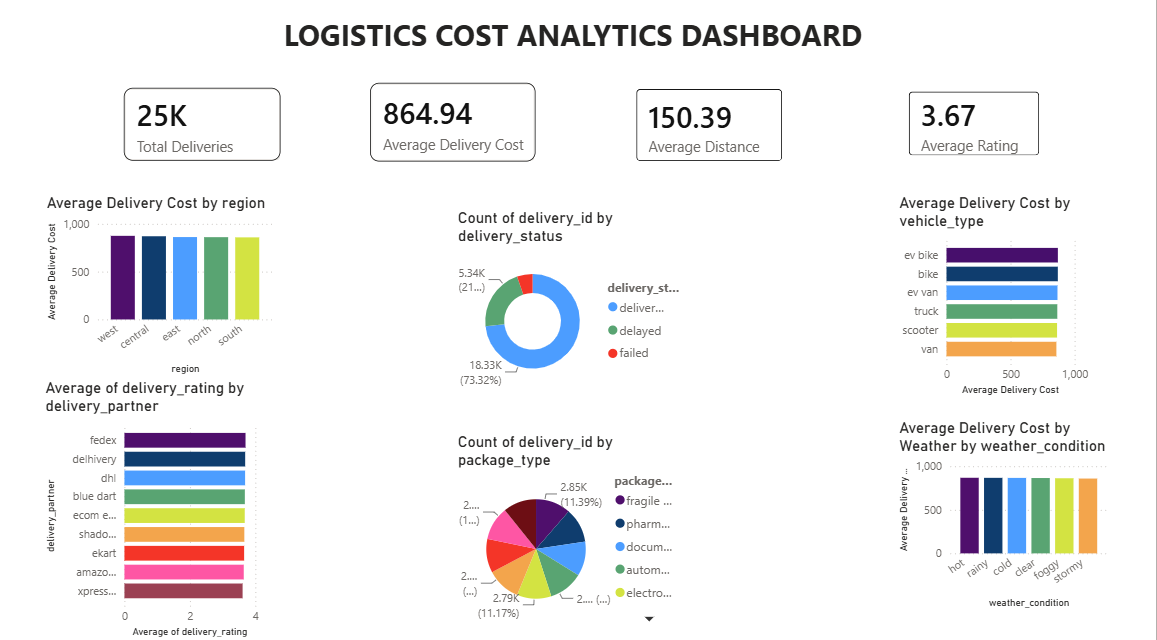

What the dashboard file says about the page in this screenshot:
{"tool":"powerbi","page":{"name":"Page 1","canvas":[1280,720],"ordinal":0},"visuals":[{"type":"cardVisual","fields":{"Data":["logistics_dataset.Total Deliveries"]},"box":[128.4,95.4,206.7,114.9],"z":0},{"type":"cardVisual","fields":{"Data":["logistics_dataset.Average Delivery Cost"]},"box":[399.3,90.6,215.4,120.8],"z":1000},{"type":"cardVisual","fields":{"Data":["logistics_dataset.Average Distance"]},"box":[691.6,97.4,194.9,113.9],"z":2000},{"type":"cardVisual","fields":{"Data":["logistics_dataset.Average Rating"]},"box":[990.7,100.2,177,104.3],"z":3000},{"type":"textbox","box":[287.4,26.9,704.4,57.5],"z":4000},{"type":"clusteredColumnChart","fields":{"Category":["logistics_dataset.region"],"Y":["logistics_dataset.Average Delivery Cost"]},"box":[56.3,228.7,258,203],"z":4001},{"type":"clusteredBarChart","fields":{"Category":["logistics_dataset.vehicle_type"],"Y":["logistics_dataset.Average Delivery Cost"]},"box":[991.7,228.7,217.7,226.2],"z":4002},{"type":"barChart","fields":{"Category":["logistics_dataset.delivery_partner"],"Y":["Avg(logistics_dataset.delivery_rating)"]},"box":[55,431.7,244.6,288.6],"z":4003},{"type":"columnChart","fields":{"Category":["logistics_dataset.weather_condition"],"Y":["logistics_dataset.Average Delivery Cost"]},"box":[991.7,475.7,238.5,212.8],"z":4004},{"type":"pieChart","fields":{"Category":["logistics_dataset.package_type"],"Y":["CountNonNull(logistics_dataset.delivery_id)"]},"box":[507.5,491.6,255.6,217.7],"z":4005},{"type":"donutChart","fields":{"Category":["logistics_dataset.delivery_status"],"Y":["CountNonNull(logistics_dataset.delivery_id)"]},"box":[507.5,245.8,258,209.1],"z":4006}]}

Visuals, with their boxes in screenshot pixels (x1, y1, x2, y2), scaled from the page's 1280x720 canvas onto the 1157x640 screenshot:
cardVisual - logistics_dataset.Total Deliveries: locate(116, 85, 303, 187)
cardVisual - logistics_dataset.Average Delivery Cost: locate(361, 81, 556, 188)
cardVisual - logistics_dataset.Average Distance: locate(625, 87, 801, 188)
cardVisual - logistics_dataset.Average Rating: locate(895, 89, 1055, 182)
textbox: locate(260, 24, 896, 75)
clusteredColumnChart - logistics_dataset.region x logistics_dataset.Average Delivery Cost: locate(51, 203, 284, 384)
clusteredBarChart - logistics_dataset.vehicle_type x logistics_dataset.Average Delivery Cost: locate(896, 203, 1093, 404)
barChart - logistics_dataset.delivery_partner x Avg(logistics_dataset.delivery_rating): locate(50, 384, 271, 639)
columnChart - logistics_dataset.weather_condition x logistics_dataset.Average Delivery Cost: locate(896, 423, 1112, 612)
pieChart - logistics_dataset.package_type x CountNonNull(logistics_dataset.delivery_id): locate(459, 437, 690, 630)
donutChart - logistics_dataset.delivery_status x CountNonNull(logistics_dataset.delivery_id): locate(459, 218, 692, 404)
